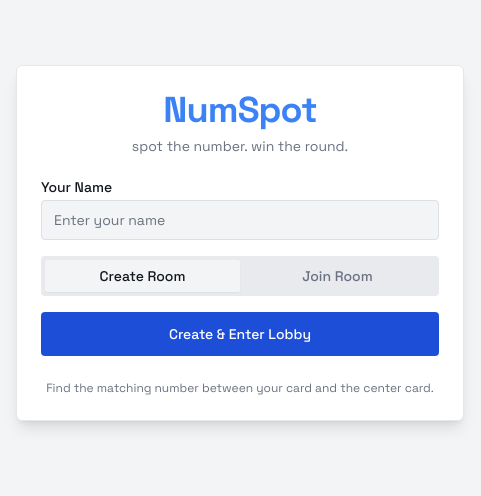
Scenario: Home page › room code validation › shows error when room code is empty on join
Click the tab "Join Room". click: [338, 276]
box: 240,260 -> 435,292
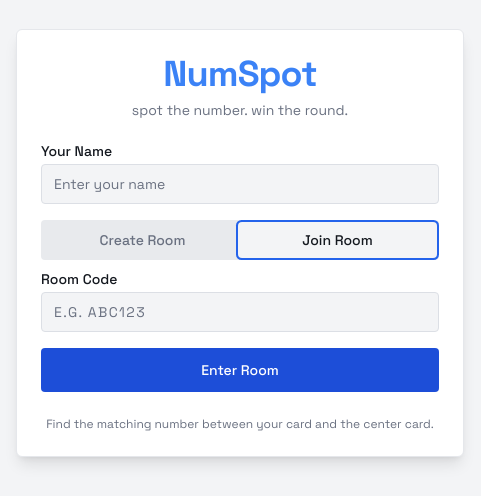
Type "Alice" into the field labelled "Your Name". click: [240, 184]
box: 41,164 -> 439,204
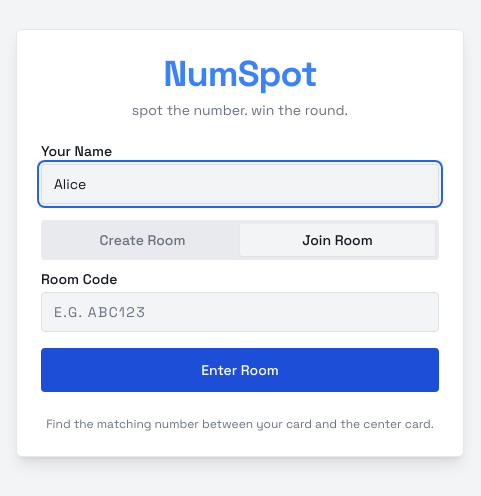
Click the button "Enter Room". click: [240, 370]
box: 41,348 -> 439,392
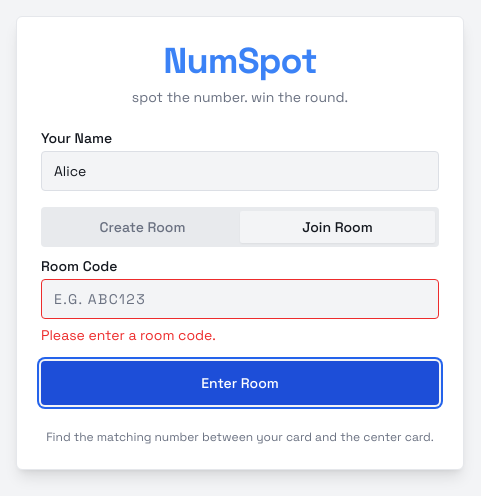
Result: the text "Please enter a room code." is shown at 41,326 -> 216,344
